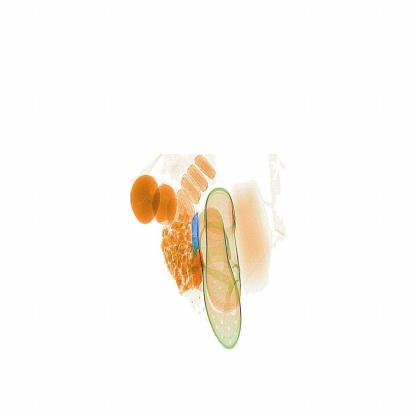wrench: (187, 208, 204, 286)
